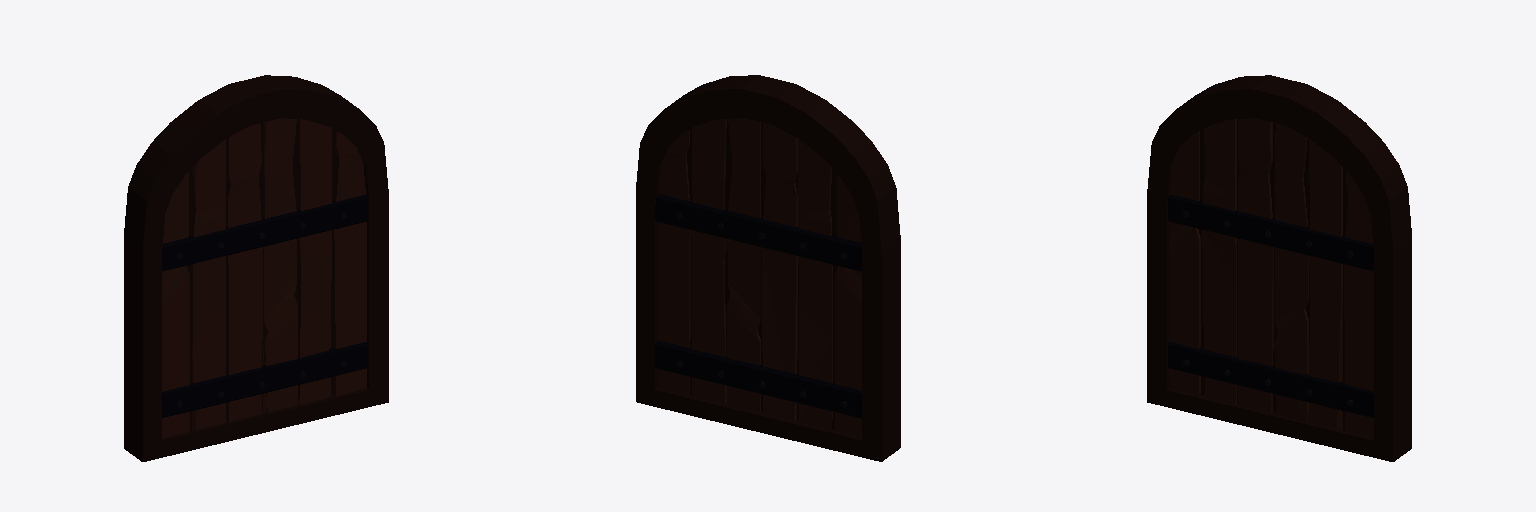
The model's file is Arch_Door.obj.
The picture shows the model from 3 angles: view 1: azimuth 30°, elevation 25°; view 2: azimuth 150°, elevation 25°; view 3: azimuth 330°, elevation 25°; orthographic projection.
Visible parts, largest first — view 1: Arch_Door; view 2: Arch_Door; view 3: Arch_Door.
Part boxes in pixels (x1,y1,x2,y2): Arch_Door: (124,75,388,461); Arch_Door: (636,75,900,461); Arch_Door: (1147,75,1411,461).
Bounding box in the file's own units: 2.42 × 3.19 × 0.3296.